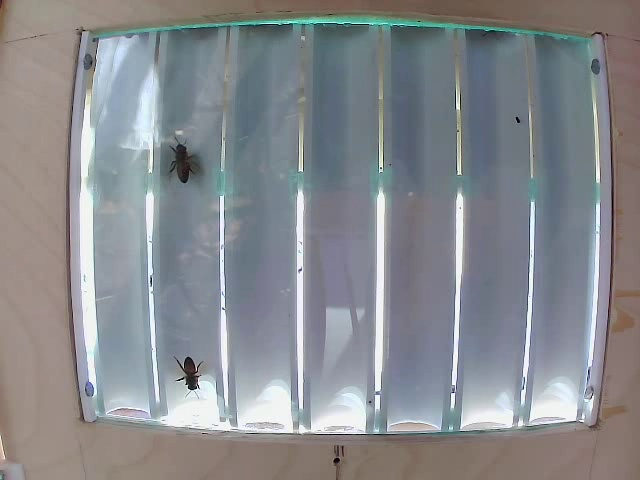bee: (158, 134, 200, 192), (175, 353, 222, 395)
